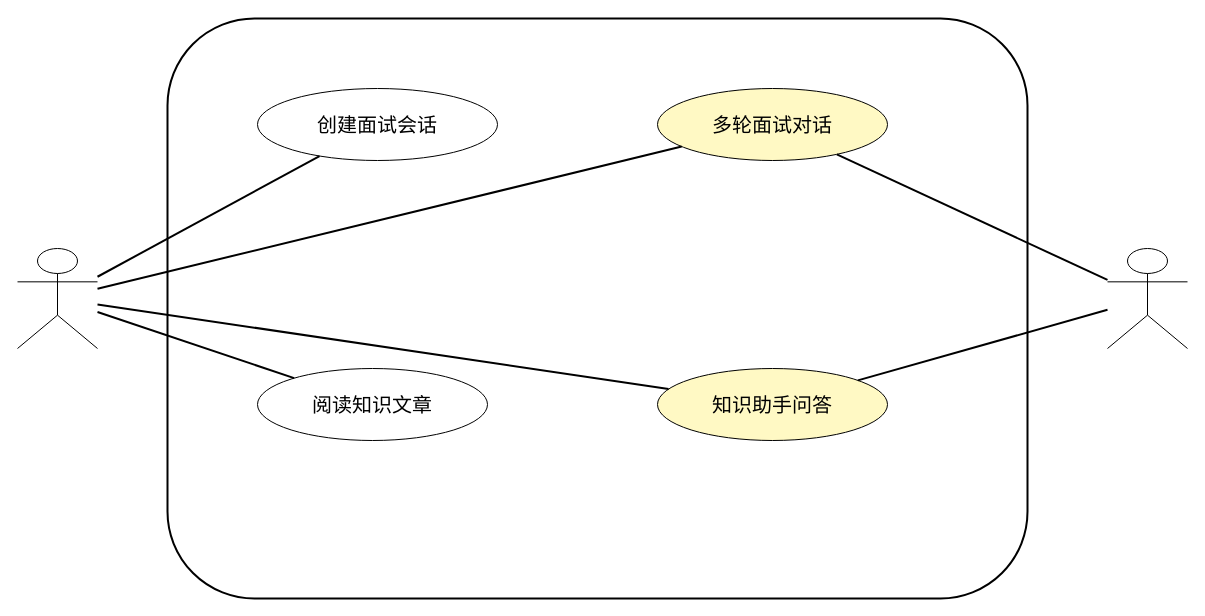
Image size: 1205x616. Some labels were removed from this diagram. Each missing label, with the box of its shape:
Coze AI Bot: (1106, 248, 1188, 348)
学生用户: (16, 248, 98, 348)
